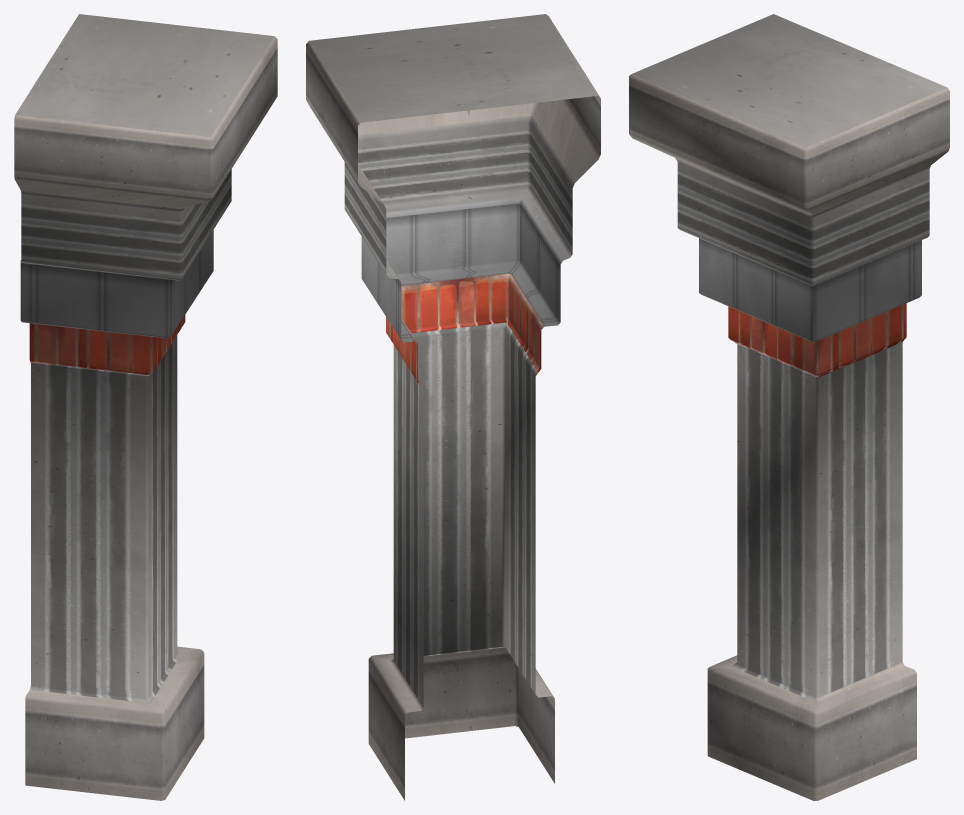
File: SM_Corner_02a.fbx
3 renders of one model, left to right at view 1: azimuth 30°, elevation 25°; view 2: azimuth 150°, elevation 25°; view 3: azimuth 270°, elevation 25°, orthographic.
Visible parts, largest first — view 1: SM_Corner_02a; view 2: SM_Corner_02a; view 3: SM_Corner_02a.
Boxes of the visible parts, bbox=[...] form: SM_Corner_02a: bbox=[14, 14, 277, 800]; SM_Corner_02a: bbox=[306, 14, 600, 800]; SM_Corner_02a: bbox=[629, 14, 949, 800].
Bounding box in the file's own units: 232 × 232 × 547.
